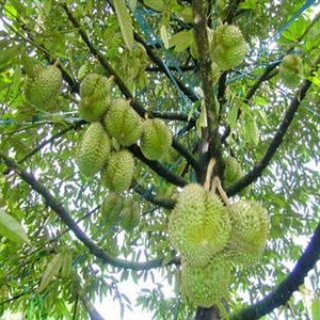sau_rieng: (169, 182, 232, 270)
